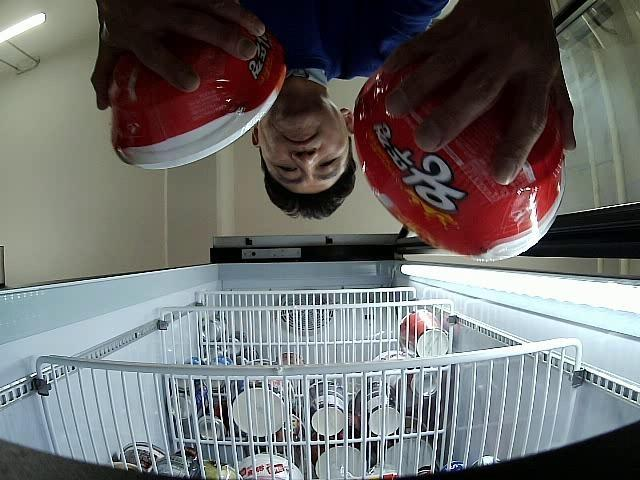10_wangTtukkeong: (354, 60, 566, 260), (109, 29, 287, 169)
